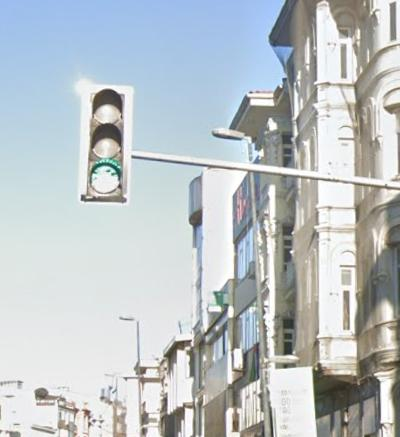greenlight: (84, 86, 123, 196)
